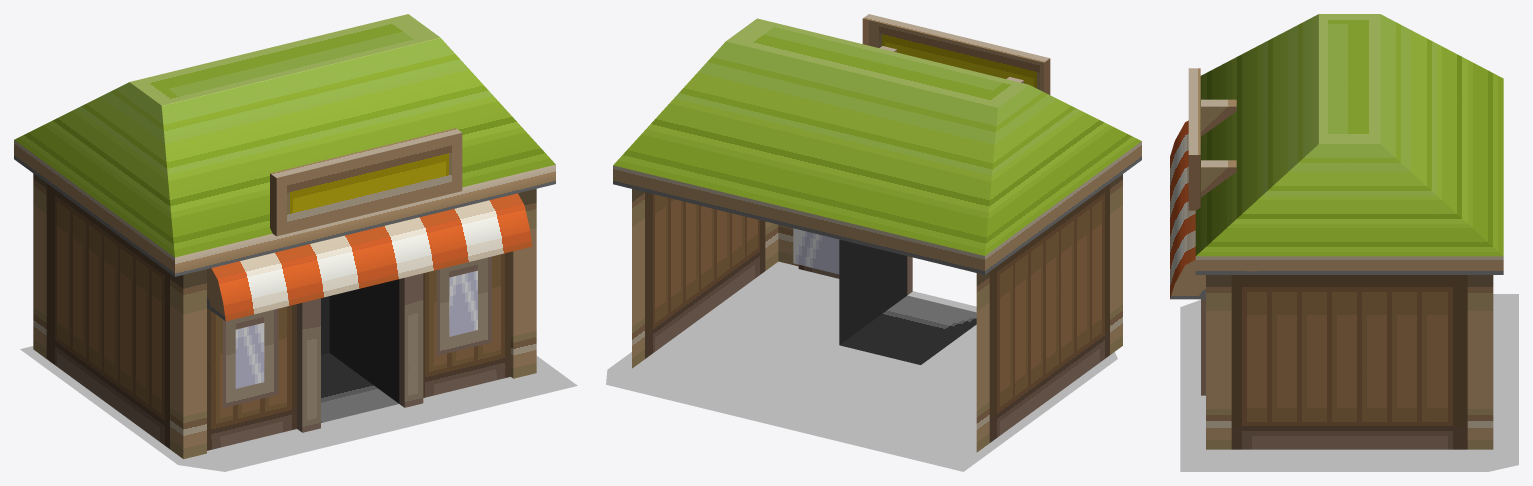
The model's file is rr_mise_01.dae.
The picture shows the model from 3 angles, left to right: view 1: azimuth 30°, elevation 25°; view 2: azimuth 150°, elevation 25°; view 3: azimuth 270°, elevation 25°; orthographic projection. The views are drawn at different scales.
Parts seen in each view (by area): view 1: rr_mise_01; view 2: rr_mise_01; view 3: rr_mise_01.
Part boxes in pixels (x1=…): rr_mise_01: x1=14, y1=14, x2=577, y2=471; rr_mise_01: x1=606, y1=14, x2=1141, y2=471; rr_mise_01: x1=1170, y1=14, x2=1518, y2=471.
Size of the model in its own units: 85.04 by 64 by 68.
